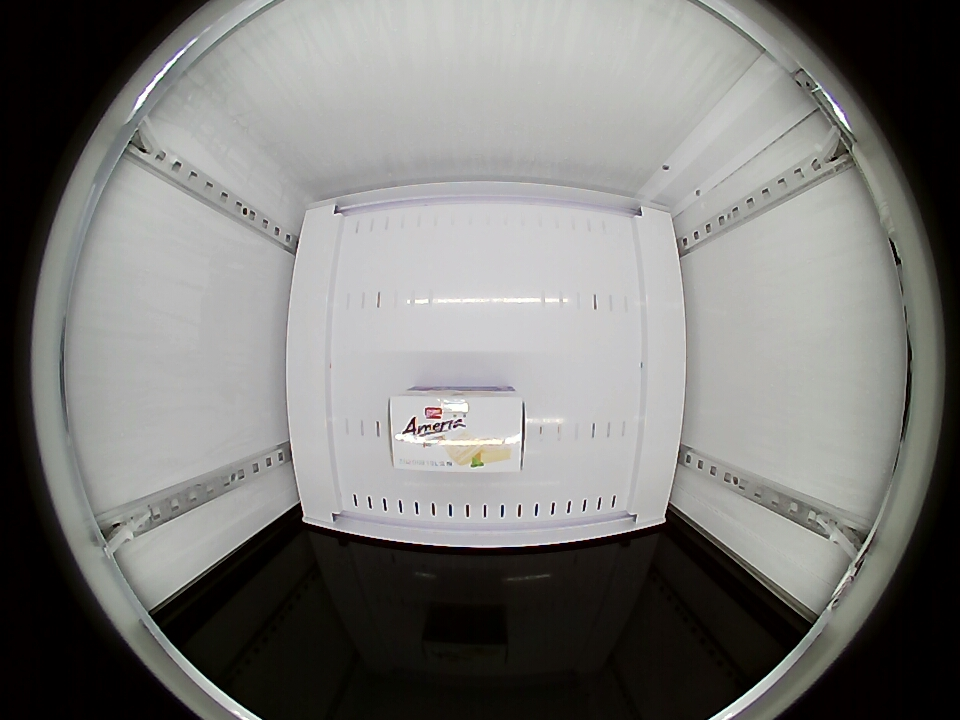meiniye: (388, 388, 524, 472)
